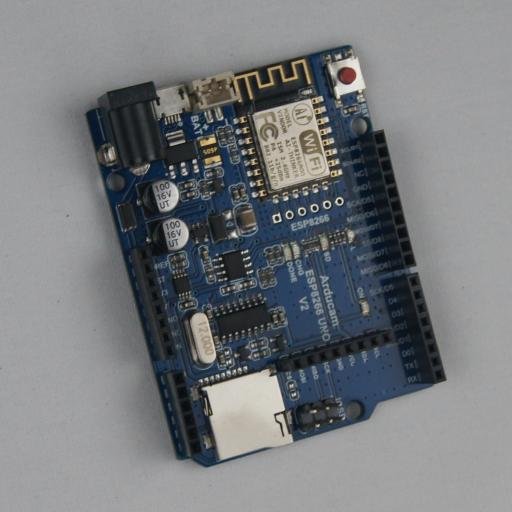Arduino Uno Camera Shield: (80, 45, 446, 467)
